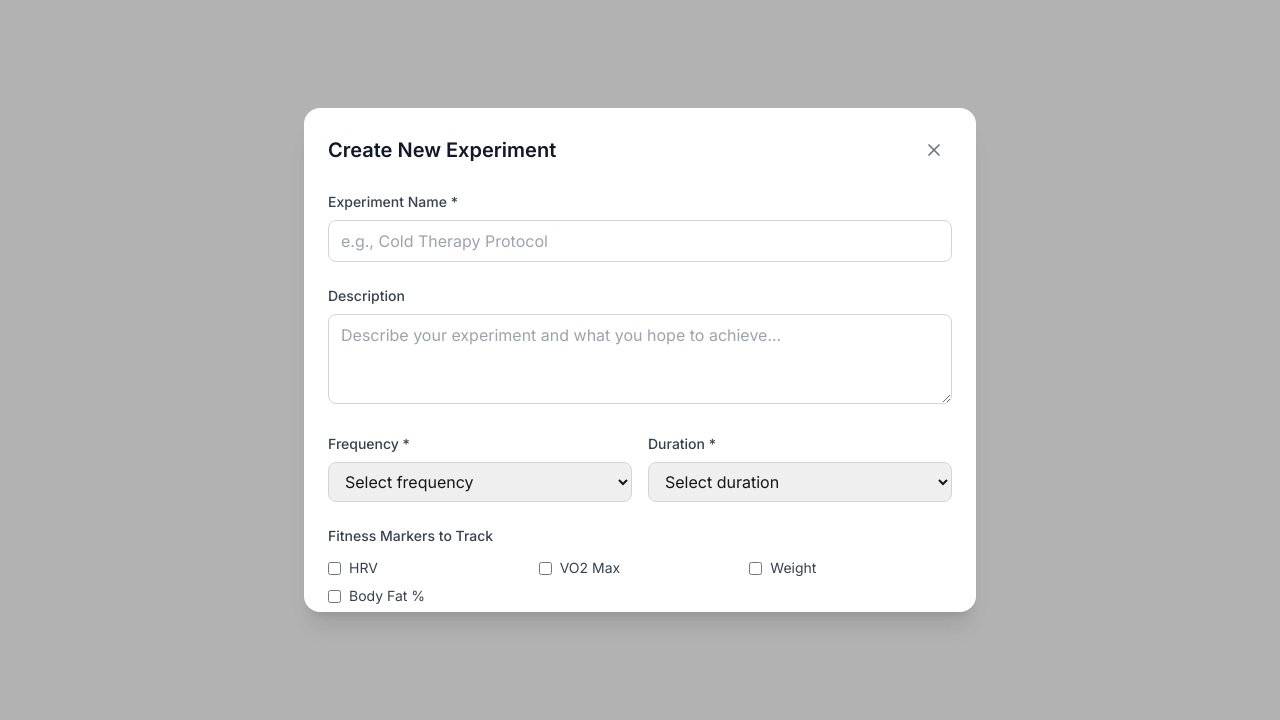
Scenario: AddExperimentModal › validates at least one marker selection
Type "Test Experiment" into the field labelled "Experiment Name *" at (640, 241), box [328, 220, 952, 262]
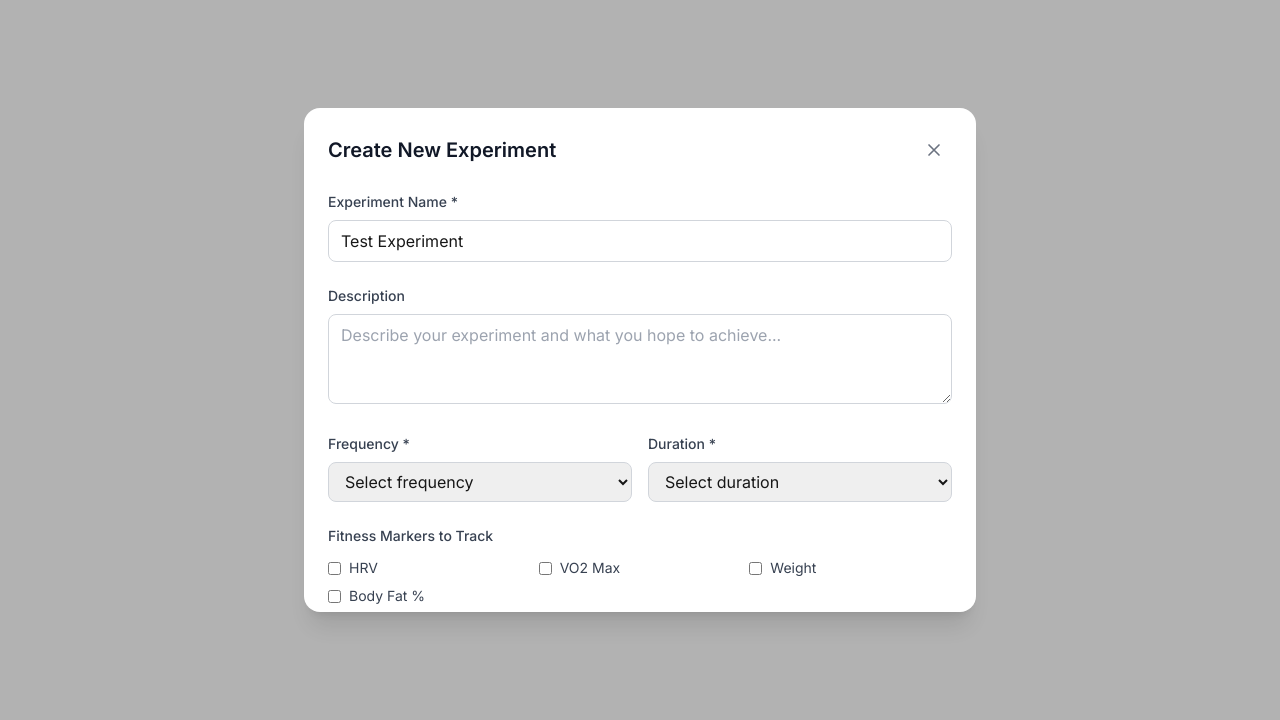
Select "Daily" in the dropdown labelled "Frequency *" at (480, 482), box [328, 462, 632, 502]
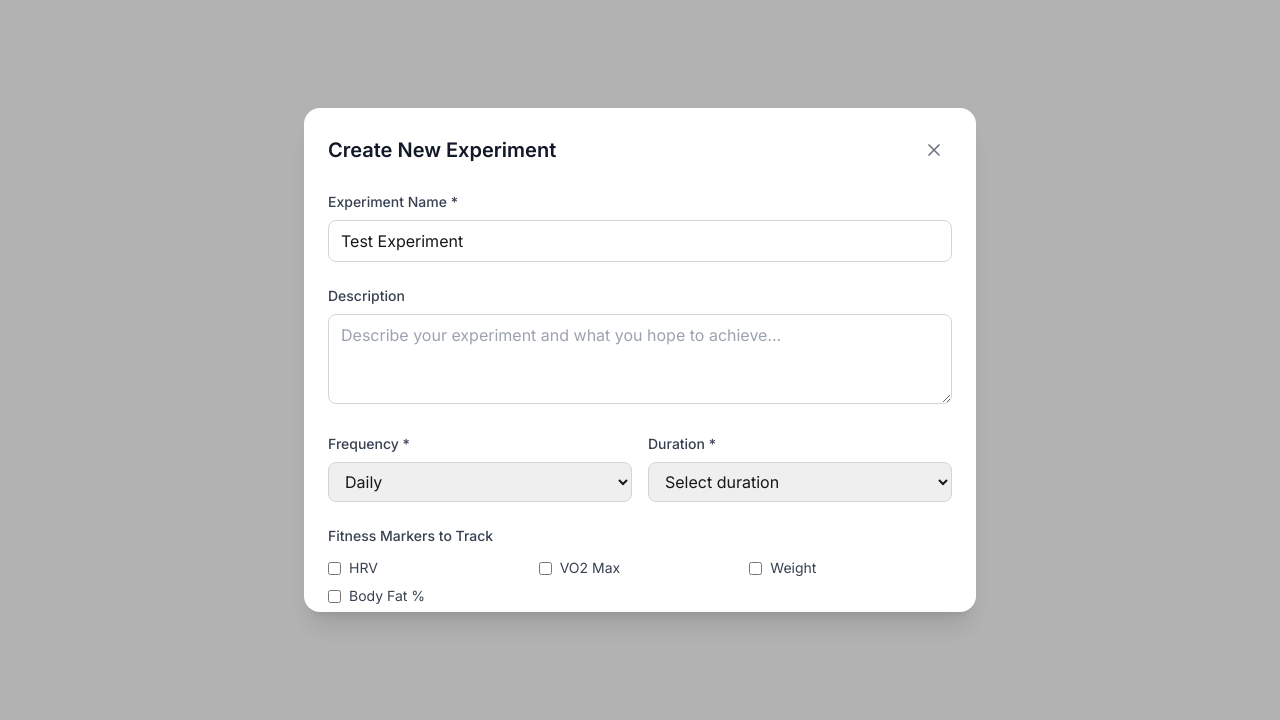
Select "4 Weeks" in the dropdown labelled "Duration *" at (800, 482), box [648, 462, 952, 502]
(page scrolled)
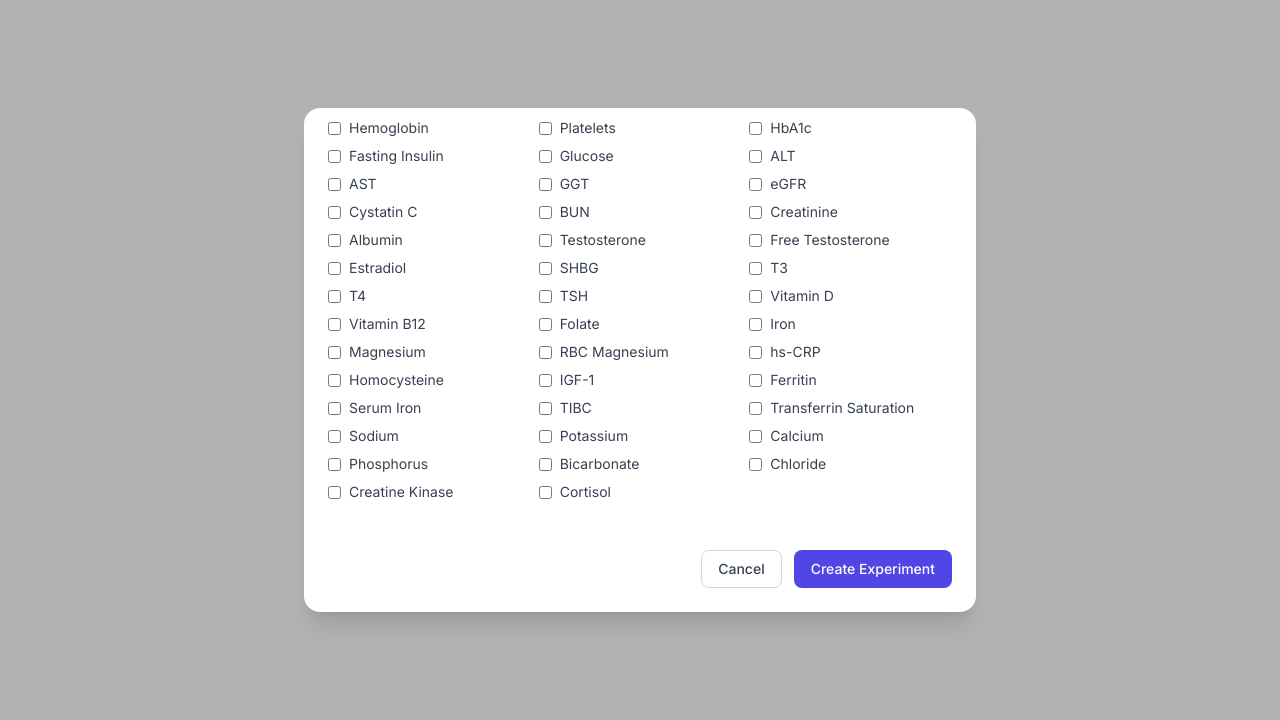
Click the button "Create Experiment" at (873, 569), box [794, 550, 952, 588]
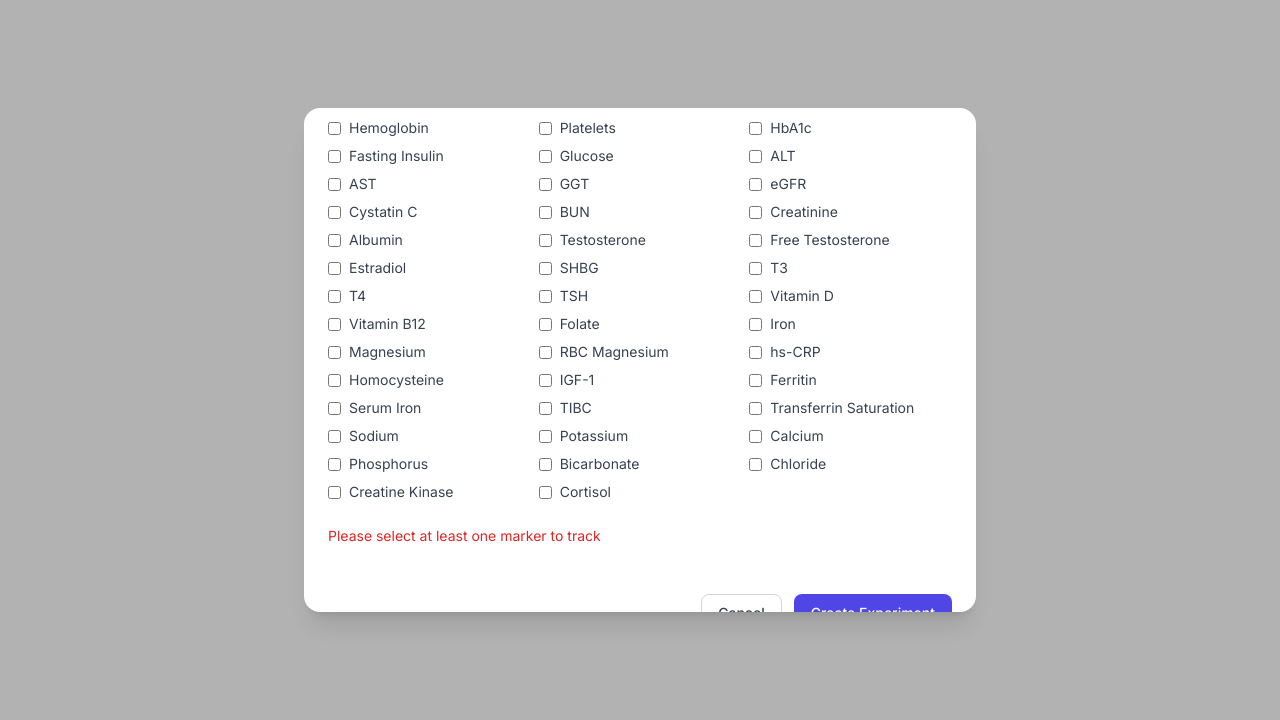
Now the text "Please select at least one marker to track" is shown, box [328, 527, 601, 544]
